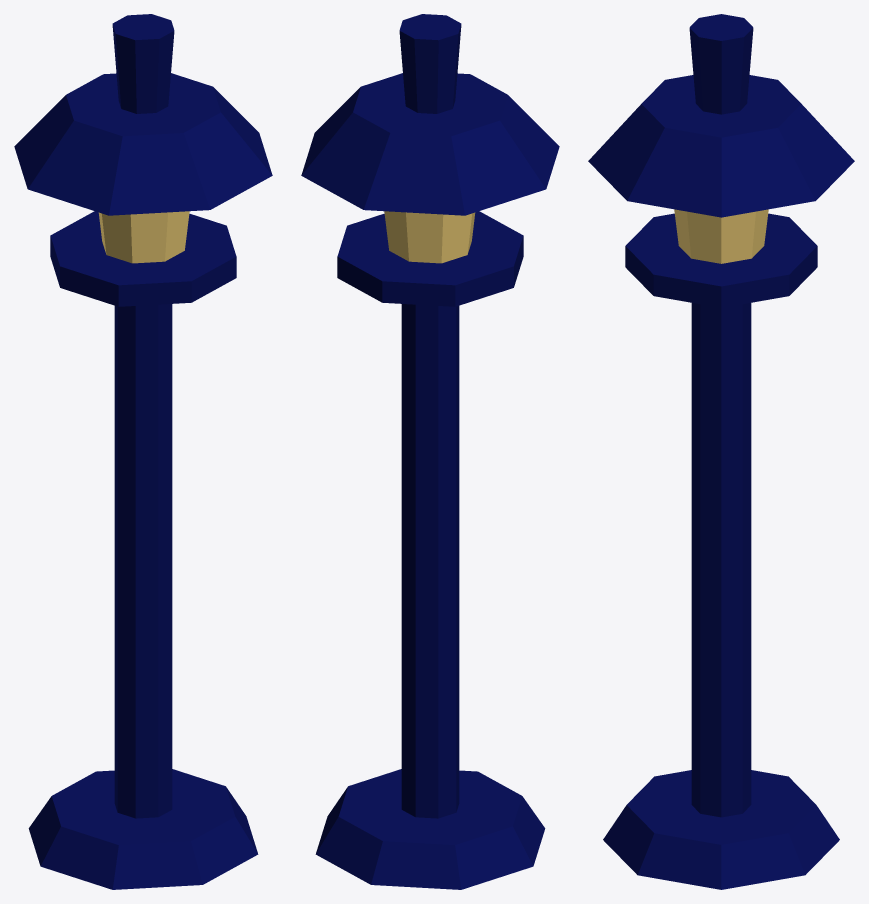
The model's file is obj_light.fbx.
3 renders of one model, left to right at view 1: azimuth 30°, elevation 25°; view 2: azimuth 150°, elevation 25°; view 3: azimuth 270°, elevation 25°, orthographic.
Visible parts, largest first — view 1: light; view 2: light; view 3: light.
Boxes of the visible parts, bbox=[...] form: light: bbox=[14, 14, 272, 889]; light: bbox=[301, 14, 559, 889]; light: bbox=[588, 14, 854, 889].
Bounding box in the file's own units: 225 × 756 × 225.
